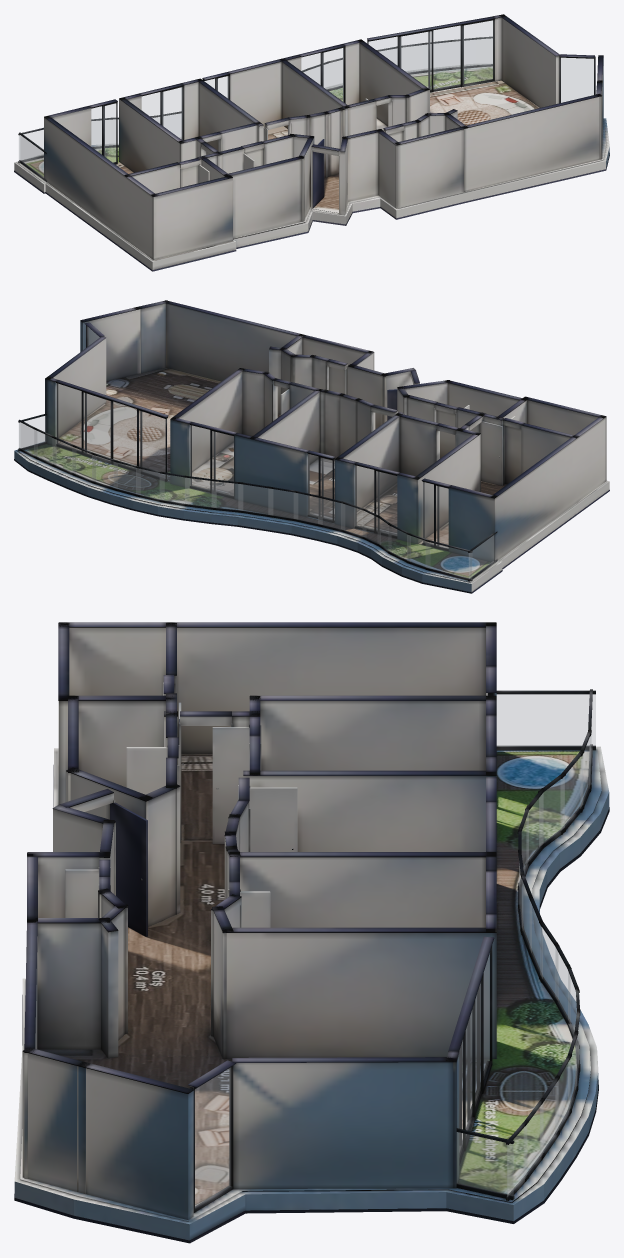
The picture shows the model from 3 angles, top to bottom: view 1: azimuth 30°, elevation 25°; view 2: azimuth 150°, elevation 25°; view 3: azimuth 270°, elevation 25°; orthographic projection. The views are drawn at different scales.
Parts seen in each view (by area): view 1: plan, glass4_m, glass3_m, glass5_m, glass1_m, glass0_m, railg21_m, railg20_m, railg4_m, railg2_m, railg3_m, railg18_m; view 2: plan, glass4_m, glass3_m, glass1_m, glass0_m, glass2_m, railg20_m, railg12_m, railg10_m, railg11_m, railg9_m, railg8_m (+15 smaller); view 3: plan, railg21_m, glass5_m, railg0_m, glass4_m, railg17_m, railg18_m, railg2_m, railg1_m, railg3_m, railg11_m, railg16_m.
Part boxes in pixels (bbox=[...]): plan: bbox=[14, 14, 609, 271]; glass4_m: bbox=[368, 20, 492, 89]; glass3_m: bbox=[301, 48, 343, 101]; glass5_m: bbox=[561, 58, 593, 102]; glass1_m: bbox=[142, 87, 182, 139]; glass0_m: bbox=[91, 103, 115, 162]; railg21_m: bbox=[20, 135, 43, 177]; railg20_m: bbox=[19, 130, 43, 160]; railg4_m: bbox=[402, 45, 422, 72]; railg2_m: bbox=[454, 40, 475, 66]; railg3_m: bbox=[427, 42, 449, 69]; railg18_m: bbox=[92, 120, 110, 146]; plan: bbox=[14, 300, 609, 593]; glass4_m: bbox=[56, 383, 165, 476]; glass3_m: bbox=[190, 425, 233, 495]; glass1_m: bbox=[355, 465, 396, 535]; glass0_m: bbox=[423, 482, 448, 547]; glass2_m: bbox=[308, 454, 332, 519]; railg20_m: bbox=[426, 541, 471, 578]; railg12_m: bbox=[238, 484, 272, 515]; railg10_m: bbox=[185, 478, 216, 507]; railg11_m: bbox=[212, 481, 242, 510]; railg9_m: bbox=[160, 474, 189, 504]; railg8_m: bbox=[268, 489, 297, 518]; plan: bbox=[14, 622, 609, 1243]; railg21_m: bbox=[497, 694, 595, 746]; glass5_m: bbox=[195, 1068, 230, 1207]; railg0_m: bbox=[457, 1132, 513, 1195]; glass4_m: bbox=[459, 955, 489, 1151]; railg17_m: bbox=[539, 776, 564, 846]; railg18_m: bbox=[560, 756, 582, 830]; railg2_m: bbox=[524, 1103, 543, 1177]; railg1_m: bbox=[507, 1125, 526, 1196]; railg3_m: bbox=[540, 1081, 558, 1156]; railg11_m: bbox=[540, 926, 558, 999]; railg16_m: bbox=[526, 793, 543, 862].
Bounding box in the file's own units: 18.3 × 2.62 × 9.64.
Materials: 2 (1 with a texture image).
